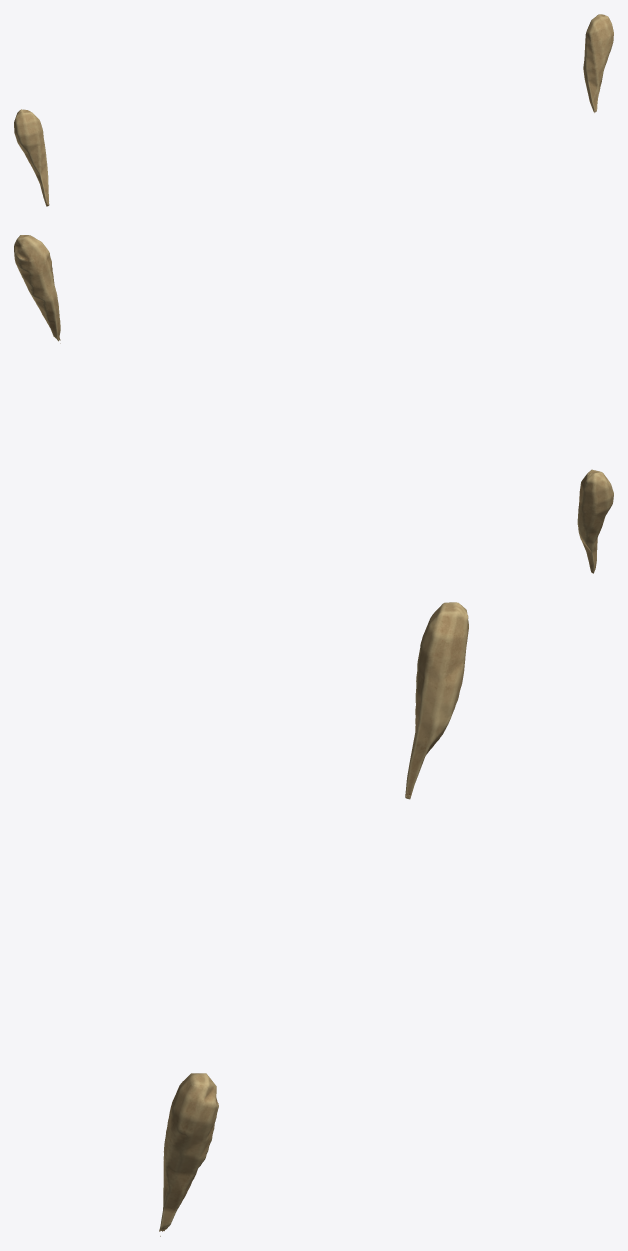
File: 5th Metacarpals.glb
The picture shows the model from 3 angles, top to bottom: view 1: azimuth 30°, elevation 25°; view 2: azimuth 150°, elevation 25°; view 3: azimuth 270°, elevation 25°; orthographic projection. The views are drawn at different scales.
Parts seen in each view (by area): view 1: ZBrush_defualt_group.001; view 2: ZBrush_defualt_group.001; view 3: ZBrush_defualt_group.001.
Boxes of the visible parts, x1,y1,x2,y2 form: ZBrush_defualt_group.001: [14, 14, 613, 206]; ZBrush_defualt_group.001: [14, 235, 613, 573]; ZBrush_defualt_group.001: [159, 602, 468, 1236].
Size of the model in its own units: 134 by 25.63 by 33.59.
Materials: 1 (1 with a texture image).
